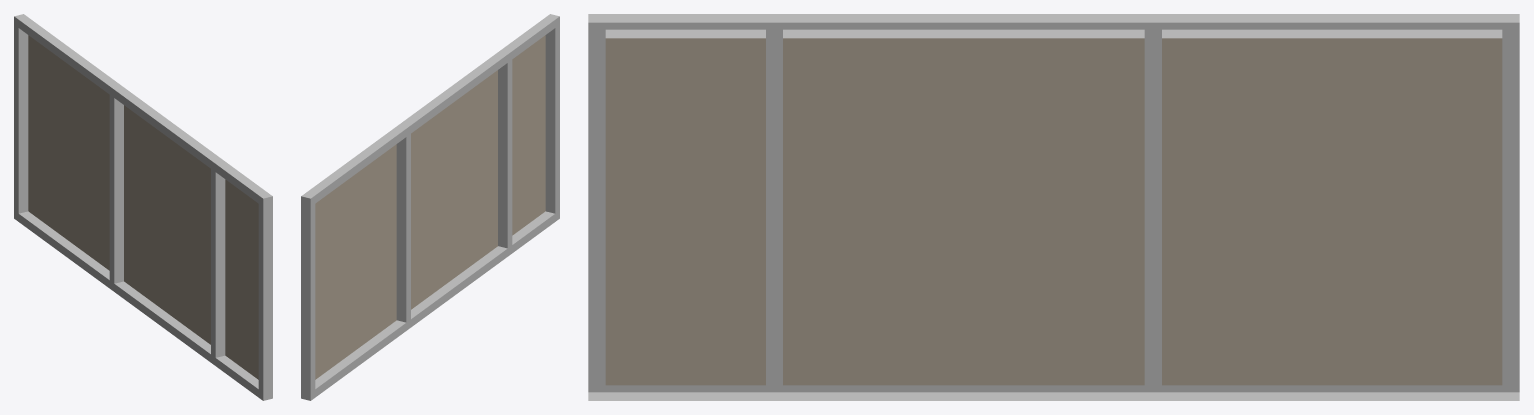
The model's file is CattleyaWindows.fbx.
3 renders of one model, left to right at view 1: azimuth 30°, elevation 25°; view 2: azimuth 150°, elevation 25°; view 3: azimuth 270°, elevation 25°, orthographic. The views are drawn at different scales.
Parts seen in each view (by area): view 1: Plane.047, Plane.048; view 2: Plane.047, Plane.048; view 3: Plane.047, Plane.048.
Part boxes in pixels (x1=…): Plane.047: x1=28, y1=35, x2=258, y2=379; Plane.048: x1=14, y1=14, x2=272, y2=400; Plane.047: x1=315, y1=35, x2=545, y2=379; Plane.048: x1=301, y1=14, x2=559, y2=400; Plane.047: x1=605, y1=38, x2=1502, y2=385; Plane.048: x1=588, y1=14, x2=1519, y2=400.
Size of the model in its own units: 20.69 by 415 by 926.
